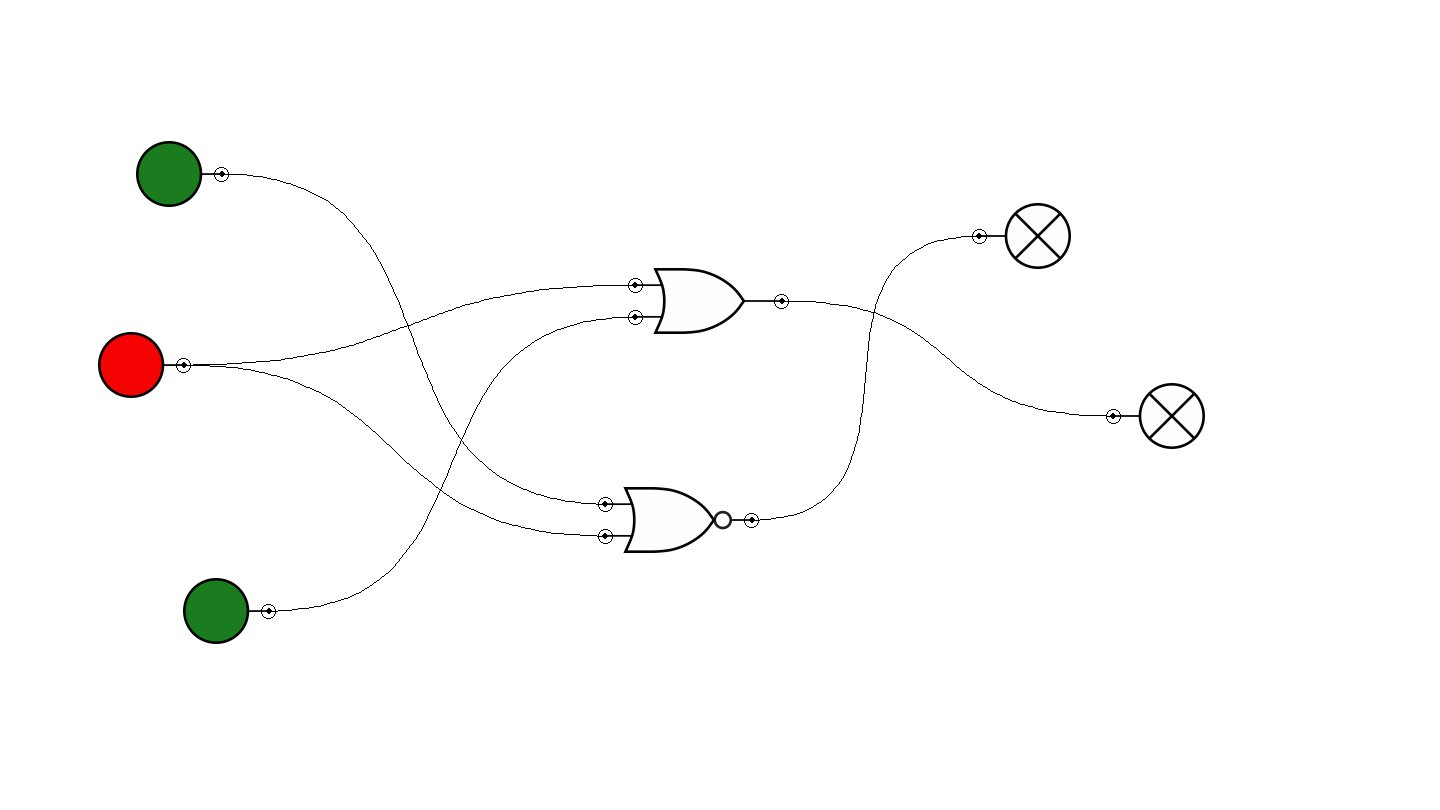bulb: (972, 203, 1071, 269), (1106, 383, 1205, 449)
nor: (598, 487, 759, 553)
or: (628, 268, 789, 334)
switch_False: (98, 332, 191, 398)
switch_True: (183, 578, 276, 644), (136, 141, 229, 207)
